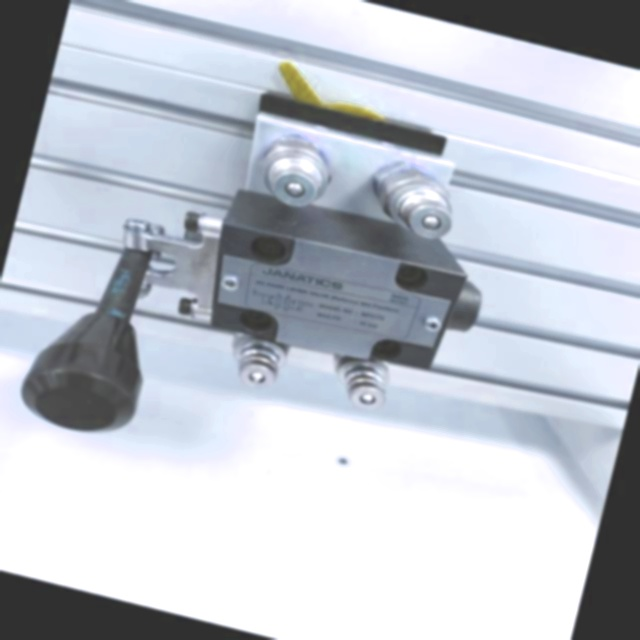4by3 hand lever valve: (8, 18, 536, 528)
